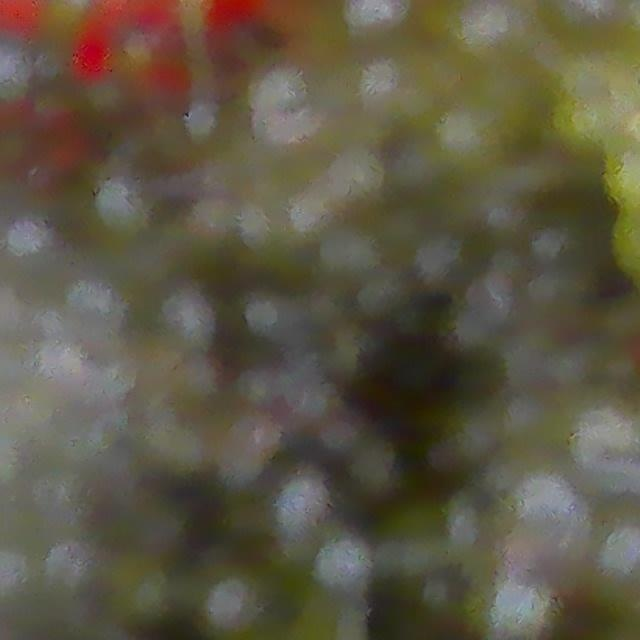SeaGrape: (584, 516, 640, 594), (275, 473, 328, 530), (315, 539, 368, 596)
